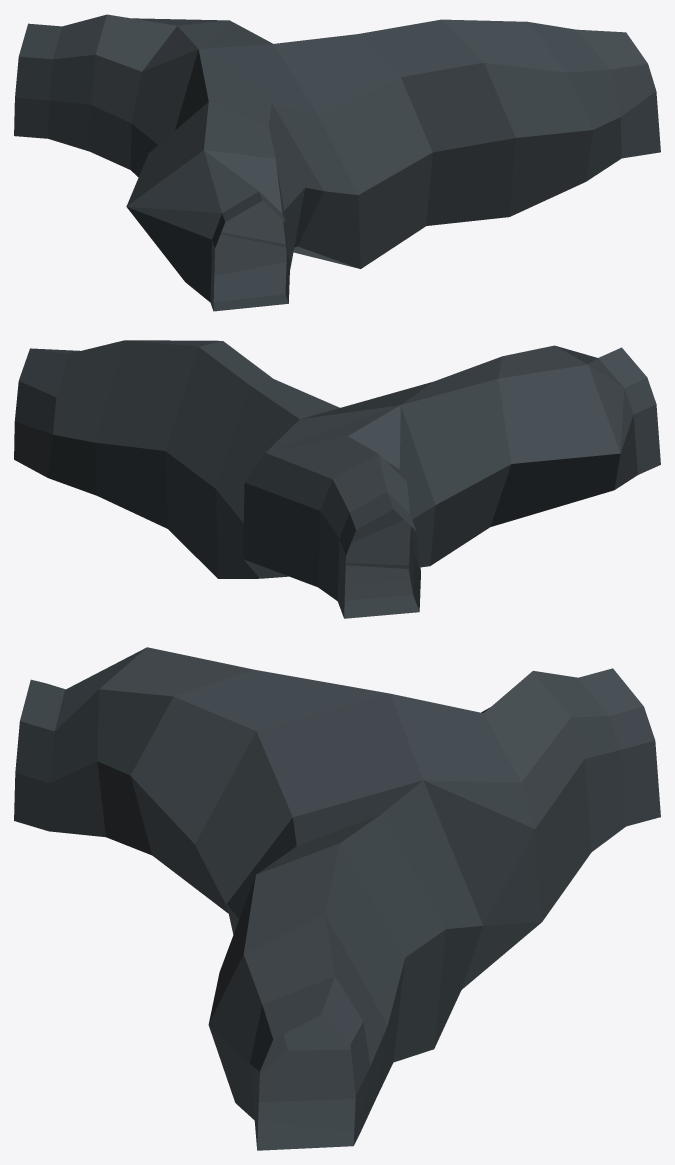
File: Tunnel-Y08.fbx
3 renders of one model, top to bottom at view 1: azimuth 30°, elevation 25°; view 2: azimuth 150°, elevation 25°; view 3: azimuth 270°, elevation 25°, orthographic. The views are drawn at different scales.
Visible parts, largest first — view 1: Tunnel-Y08; view 2: Tunnel-Y08; view 3: Tunnel-Y08.
Boxes of the visible parts, box(x1,y1,x2,y2) form: Tunnel-Y08: box(14, 14, 660, 311); Tunnel-Y08: box(14, 340, 660, 618); Tunnel-Y08: box(14, 647, 660, 1150).
Size of the model in its own units: 1128 by 1405 by 501.
